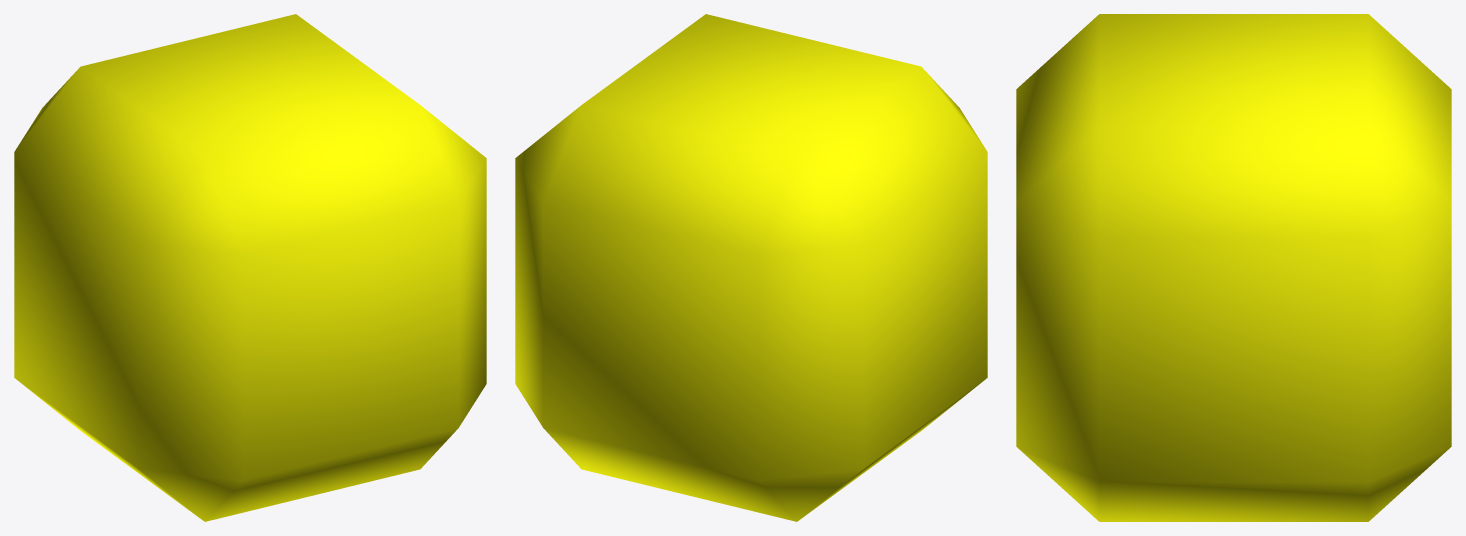
The model's file is kaykit-bush-2-a-color-1.glb.
3 views of the same model, side by side, from view 1: azimuth 30°, elevation 25°; view 2: azimuth 150°, elevation 25°; view 3: azimuth 270°, elevation 25° (orthographic). The views are drawn at different scales.
Visible parts, largest first — view 1: Bush_2_A_Color1; view 2: Bush_2_A_Color1; view 3: Bush_2_A_Color1.
Boxes of the visible parts, bbox=[...] form: Bush_2_A_Color1: bbox=[14, 14, 486, 521]; Bush_2_A_Color1: bbox=[515, 14, 987, 521]; Bush_2_A_Color1: bbox=[1016, 14, 1451, 521].
Size of the model in its own units: 0.528 by 0.528 by 0.528.
